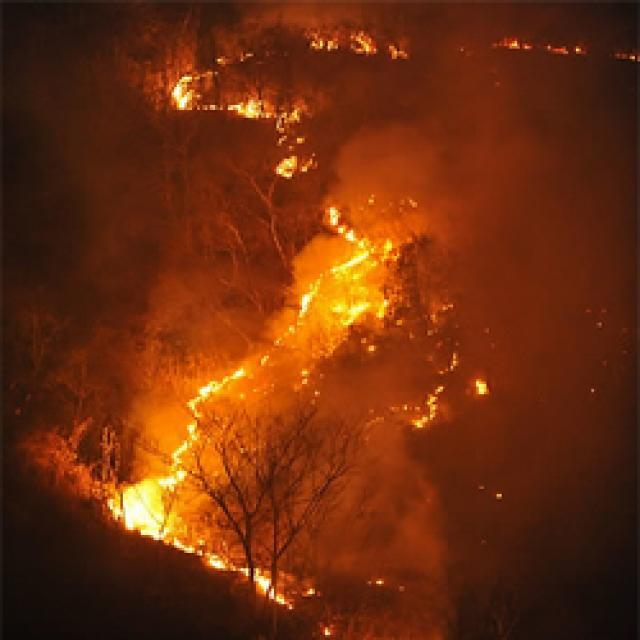Fire: (173, 539, 290, 607), (288, 260, 397, 326), (106, 469, 174, 548), (258, 324, 317, 390), (162, 392, 205, 469), (323, 212, 394, 258), (228, 94, 304, 130), (169, 64, 223, 112), (309, 24, 372, 61), (206, 362, 256, 404), (274, 134, 318, 177), (364, 190, 422, 216), (547, 41, 583, 60), (382, 41, 406, 63), (493, 40, 533, 51), (614, 48, 640, 60), (306, 584, 320, 596)
Smoke: (324, 71, 640, 192), (13, 230, 158, 462), (15, 0, 162, 224), (315, 428, 490, 576), (166, 125, 285, 322), (425, 189, 640, 297), (494, 368, 640, 526), (461, 300, 639, 368), (157, 323, 261, 363), (406, 581, 454, 640)
